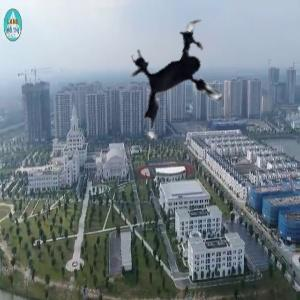drone: (110, 11, 257, 158)
